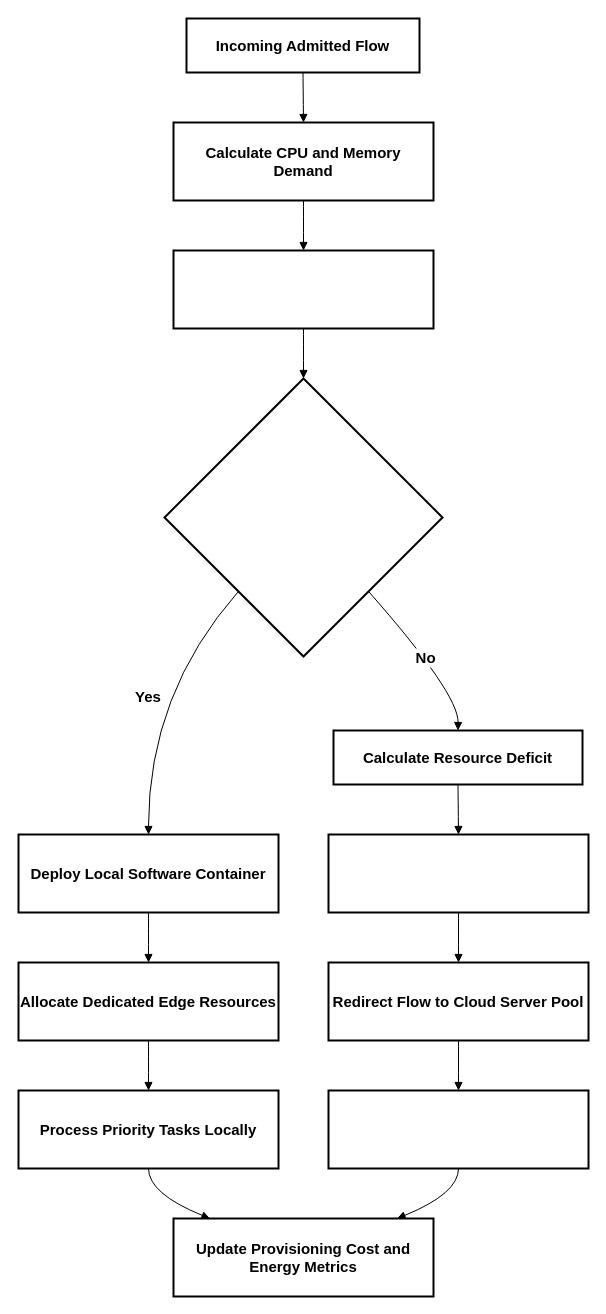
Some shapes in this 606 by 1314 pixel diagram are drawn without their labels. The centre of each missing label's shape, as x and y in pixels:
Evaluate Target Edge Server Capacity: (x=303, y=289)
Initiate Cloud Offload Sequence: (x=458, y=873)
Is Utilization Ratio Optimal?: (x=303, y=517)
Process Background Tasks in Cloud: (x=458, y=1129)
